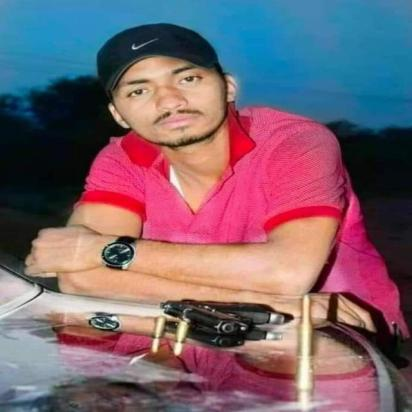Gun: (158, 297, 288, 338)
